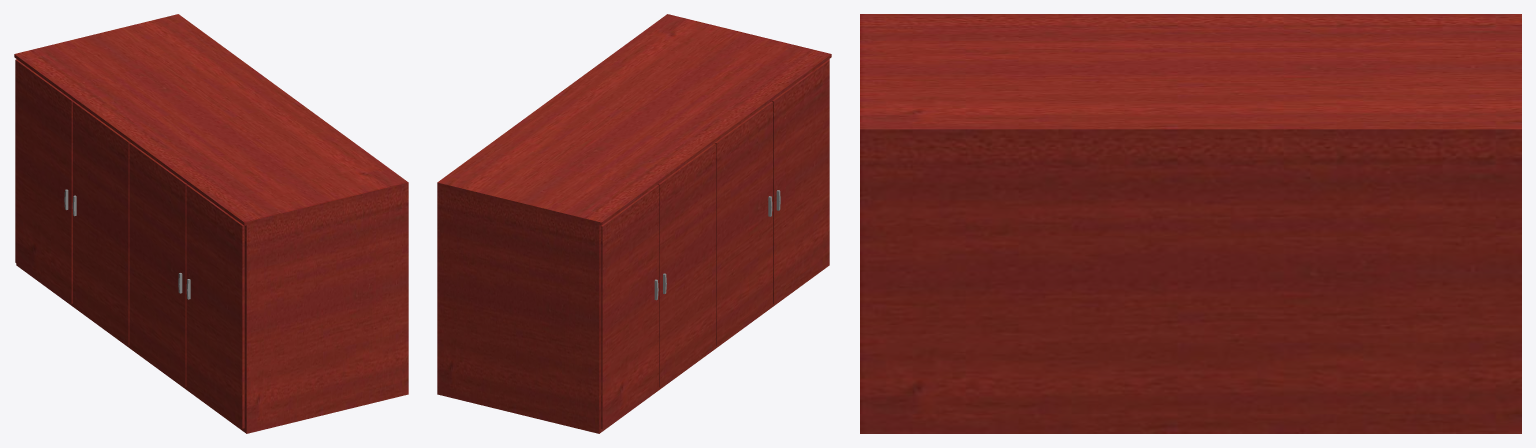
File: CK-guizi0009-CJBZ.FBX
3 views of the same model, side by side, from view 1: azimuth 30°, elevation 25°; view 2: azimuth 150°, elevation 25°; view 3: azimuth 270°, elevation 25° (orthographic). The views are drawn at different scales.
Visible parts, largest first — view 1: CK-guizi0009-CJBZ; view 2: CK-guizi0009-CJBZ; view 3: CK-guizi0009-CJBZ.
Boxes of the visible parts, x1,y1,x2,y2 form: CK-guizi0009-CJBZ: (14, 14, 408, 433); CK-guizi0009-CJBZ: (437, 14, 831, 433); CK-guizi0009-CJBZ: (860, 14, 1521, 433).
Bounding box in the file's own units: 0.7127 × 0.8637 × 1.7.
2 materials, 1 textured.
